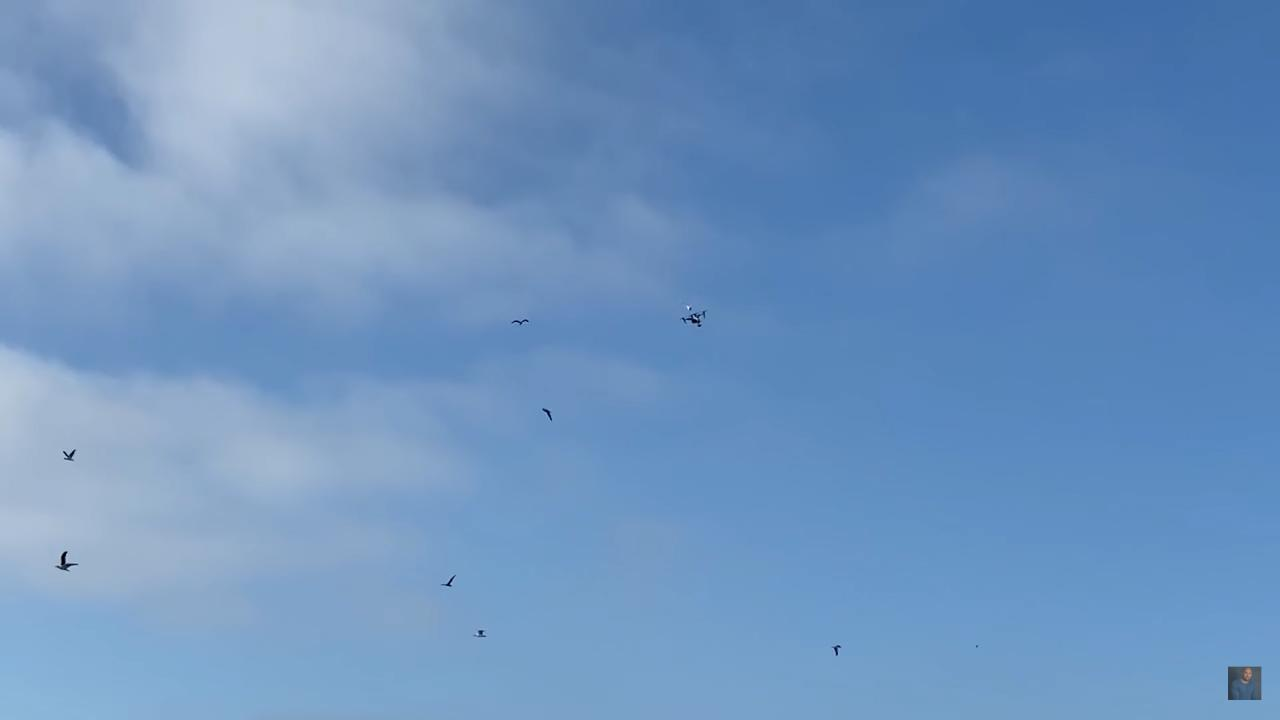Bird: (46, 545, 86, 579), (501, 311, 541, 333), (822, 637, 855, 661), (532, 400, 562, 426), (436, 568, 466, 593), (54, 445, 83, 466), (466, 623, 495, 643)
Drone: (674, 297, 719, 334)
